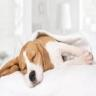dog: (0, 33, 94, 88)
